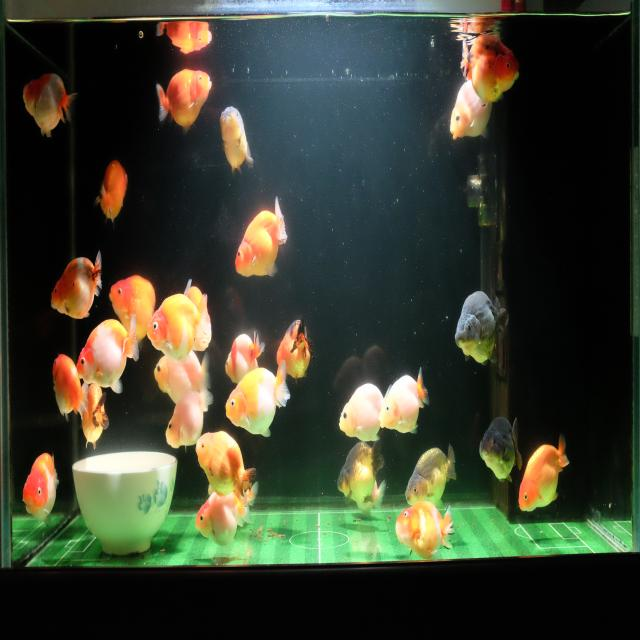Goldfish: (224, 355, 291, 439), (75, 313, 140, 396), (234, 192, 288, 286), (194, 426, 256, 504), (453, 290, 511, 372), (459, 29, 521, 104), (518, 432, 572, 515), (194, 478, 258, 548), (146, 287, 210, 355), (49, 246, 103, 324), (22, 71, 78, 143), (155, 67, 214, 134), (153, 343, 214, 406), (393, 499, 455, 559), (378, 365, 431, 433), (164, 382, 217, 450), (108, 271, 156, 345), (404, 444, 458, 509), (477, 414, 524, 485), (336, 441, 385, 508), (22, 448, 60, 534), (218, 96, 255, 181), (338, 379, 386, 444), (274, 313, 316, 384), (449, 77, 494, 143), (51, 351, 90, 424), (224, 325, 266, 389), (80, 378, 112, 457), (94, 159, 130, 226), (182, 280, 213, 354)
